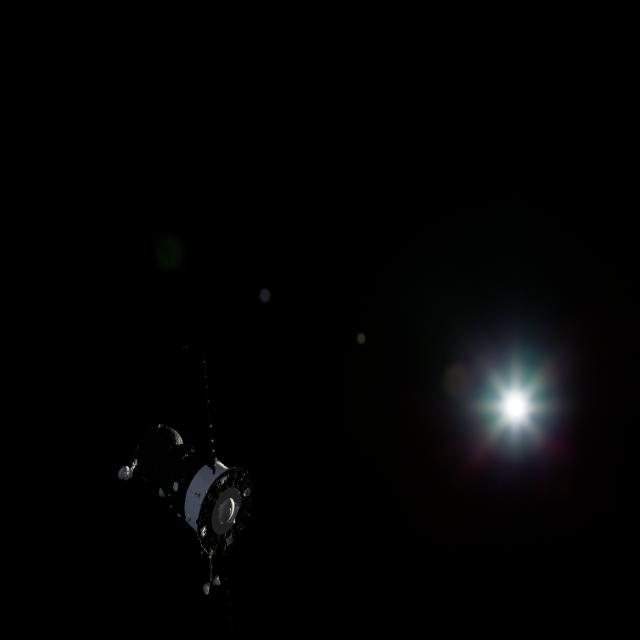Satellites revolving around earth: (116, 343, 255, 598)
